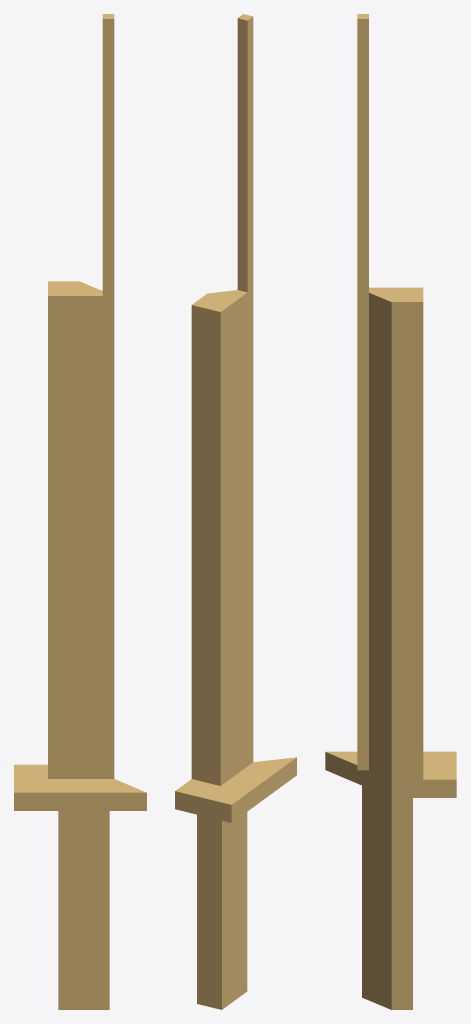
The model's file is BasementCornerCapA.fbx.
3 views of the same model, side by side, from view 1: azimuth 90°, elevation 25°; view 2: azimuth 150°, elevation 25°; view 3: azimuth 270°, elevation 25° (orthographic).
Parts seen in each view (by area): view 1: BasementCornerCapA; view 2: BasementCornerCapA; view 3: BasementCornerCapA.
Part boxes in pixels (left/top/right/bottom): BasementCornerCapA: left=14, top=14, right=146, bottom=1009; BasementCornerCapA: left=175, top=14, right=296, bottom=1009; BasementCornerCapA: left=325, top=14, right=456, bottom=1009.
Bounding box in the file's own units: 29.4 × 483 × 58.57.
